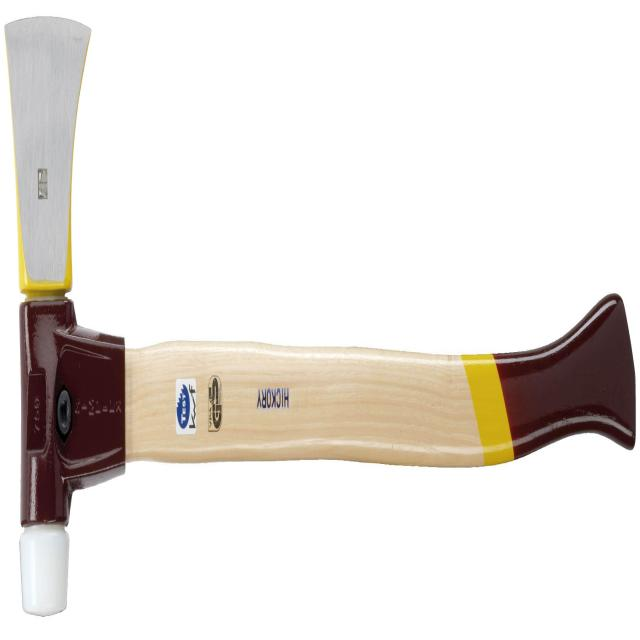Kapak: (1, 0, 638, 624)
